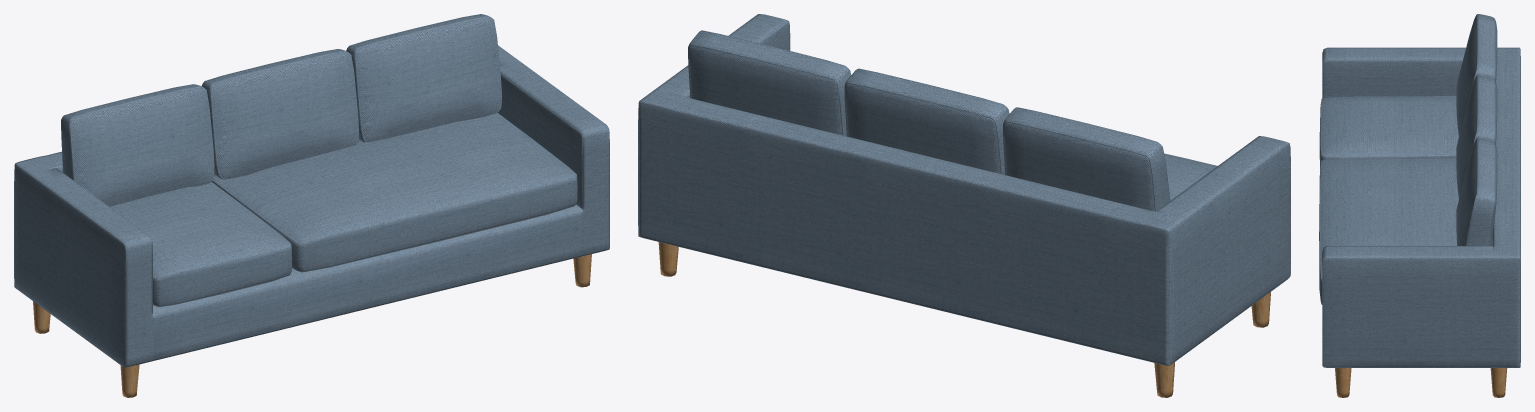
File: design16.obj
3 renders of one model, left to right at view 1: azimuth 30°, elevation 25°; view 2: azimuth 150°, elevation 25°; view 3: azimuth 270°, elevation 25°, orthographic. The views are drawn at different scales.
Parts seen in each view (by area): view 1: Box007, Box086, Box084, Box085, Box010, Box009, Box008; view 2: Box007, Box010, Box084, Box085, Box008, Box009; view 3: Box007, Box086, Box009, Box085, Box084, Box010, Box008.
Part boxes in pixels (<box>): Box007: <box>14,45,609,367</box>; Box086: <box>212,113,577,272</box>; Box084: <box>202,49,359,179</box>; Box085: <box>346,14,501,142</box>; Box010: <box>61,84,214,206</box>; Box009: <box>110,182,292,307</box>; Box008: <box>33,254,591,397</box>; Box007: <box>638,14,1290,365</box>; Box010: <box>1003,107,1170,211</box>; Box084: <box>844,68,1009,174</box>; Box085: <box>688,30,850,136</box>; Box008: <box>658,242,1270,397</box>; Box009: <box>1164,153,1217,200</box>; Box007: <box>1322,47,1520,367</box>; Box086: <box>1319,158,1458,304</box>; Box009: <box>1319,96,1458,169</box>; Box085: <box>1456,137,1497,245</box>; Box084: <box>1456,75,1497,198</box>; Box010: <box>1456,14,1497,135</box>; Box008: <box>1335,368,1507,397</box>.
Size of the model in its own units: 1807 by 774 by 728.
Materials: 2 (2 with a texture image).
